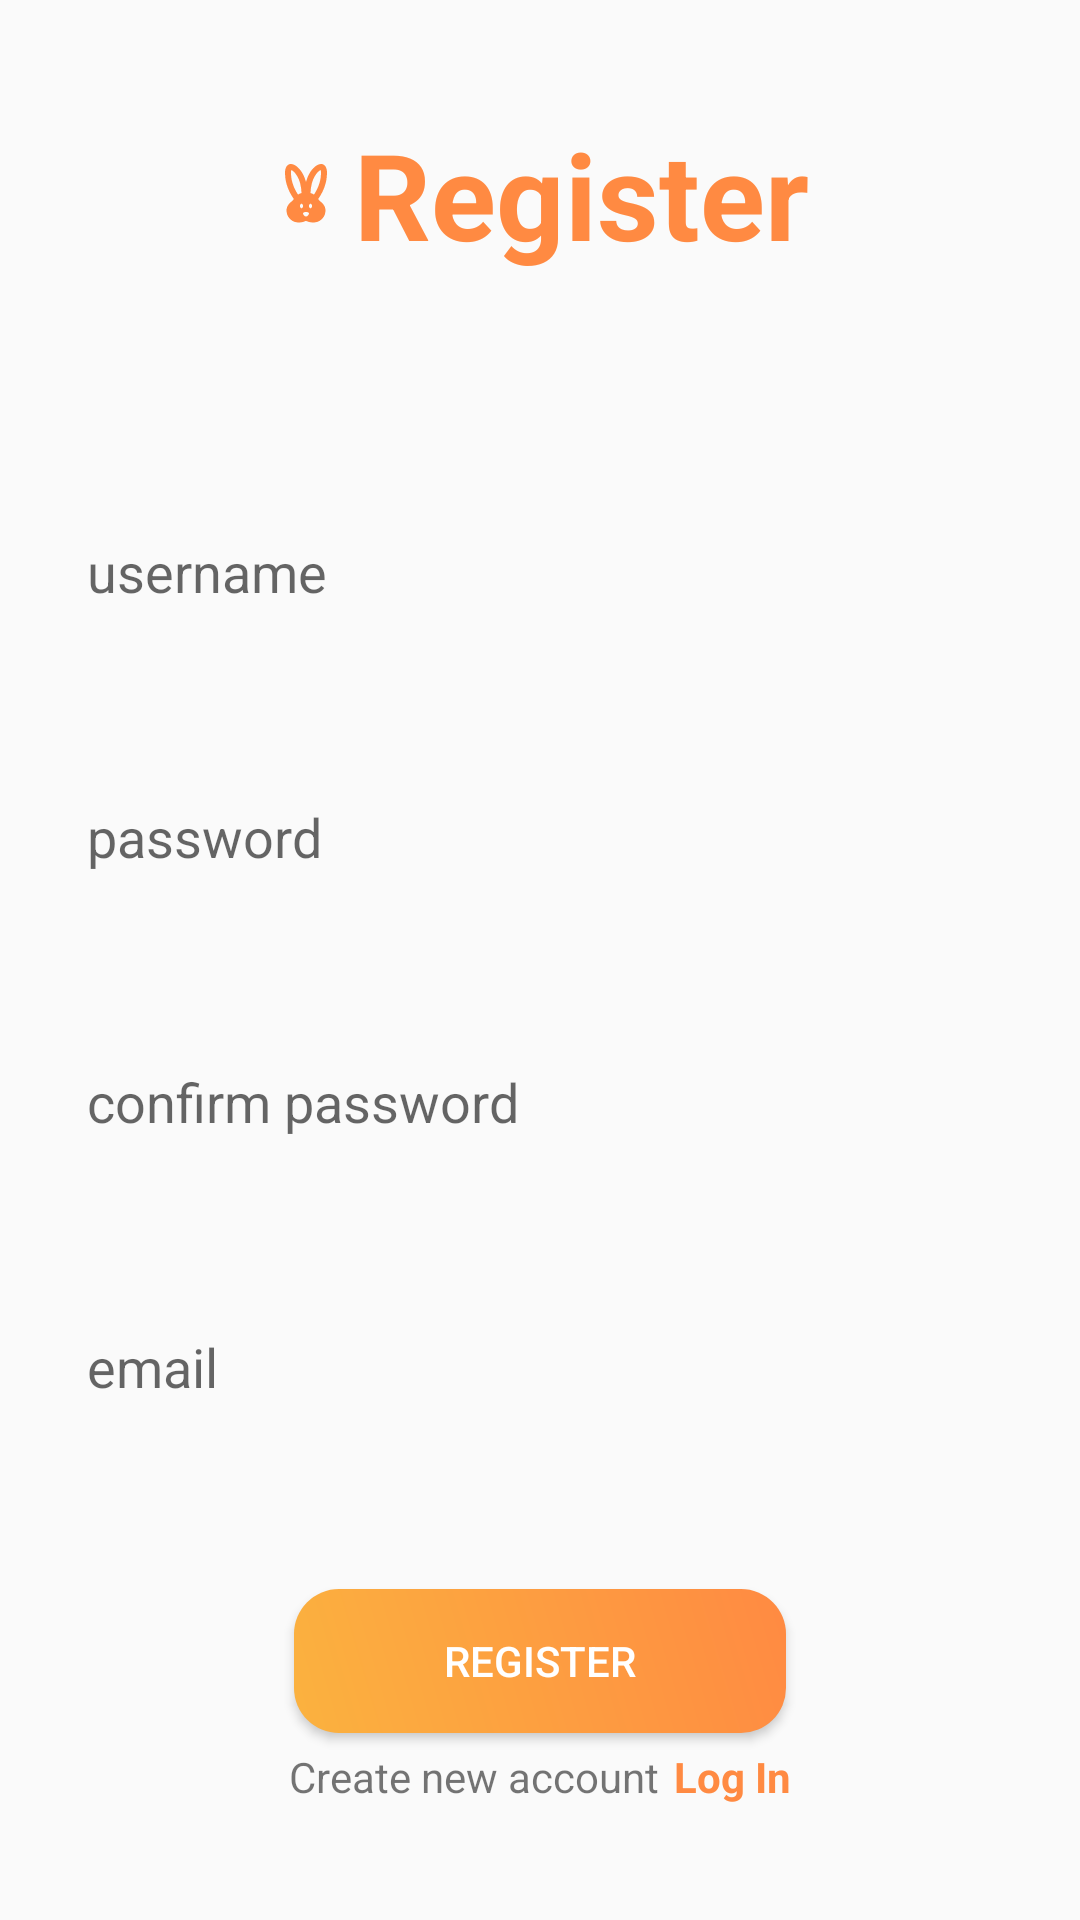

Where icons sit on this 1080*1920 app screen, as (x1, y1, x2, y2):
cruelty free: (285, 164, 327, 223)
